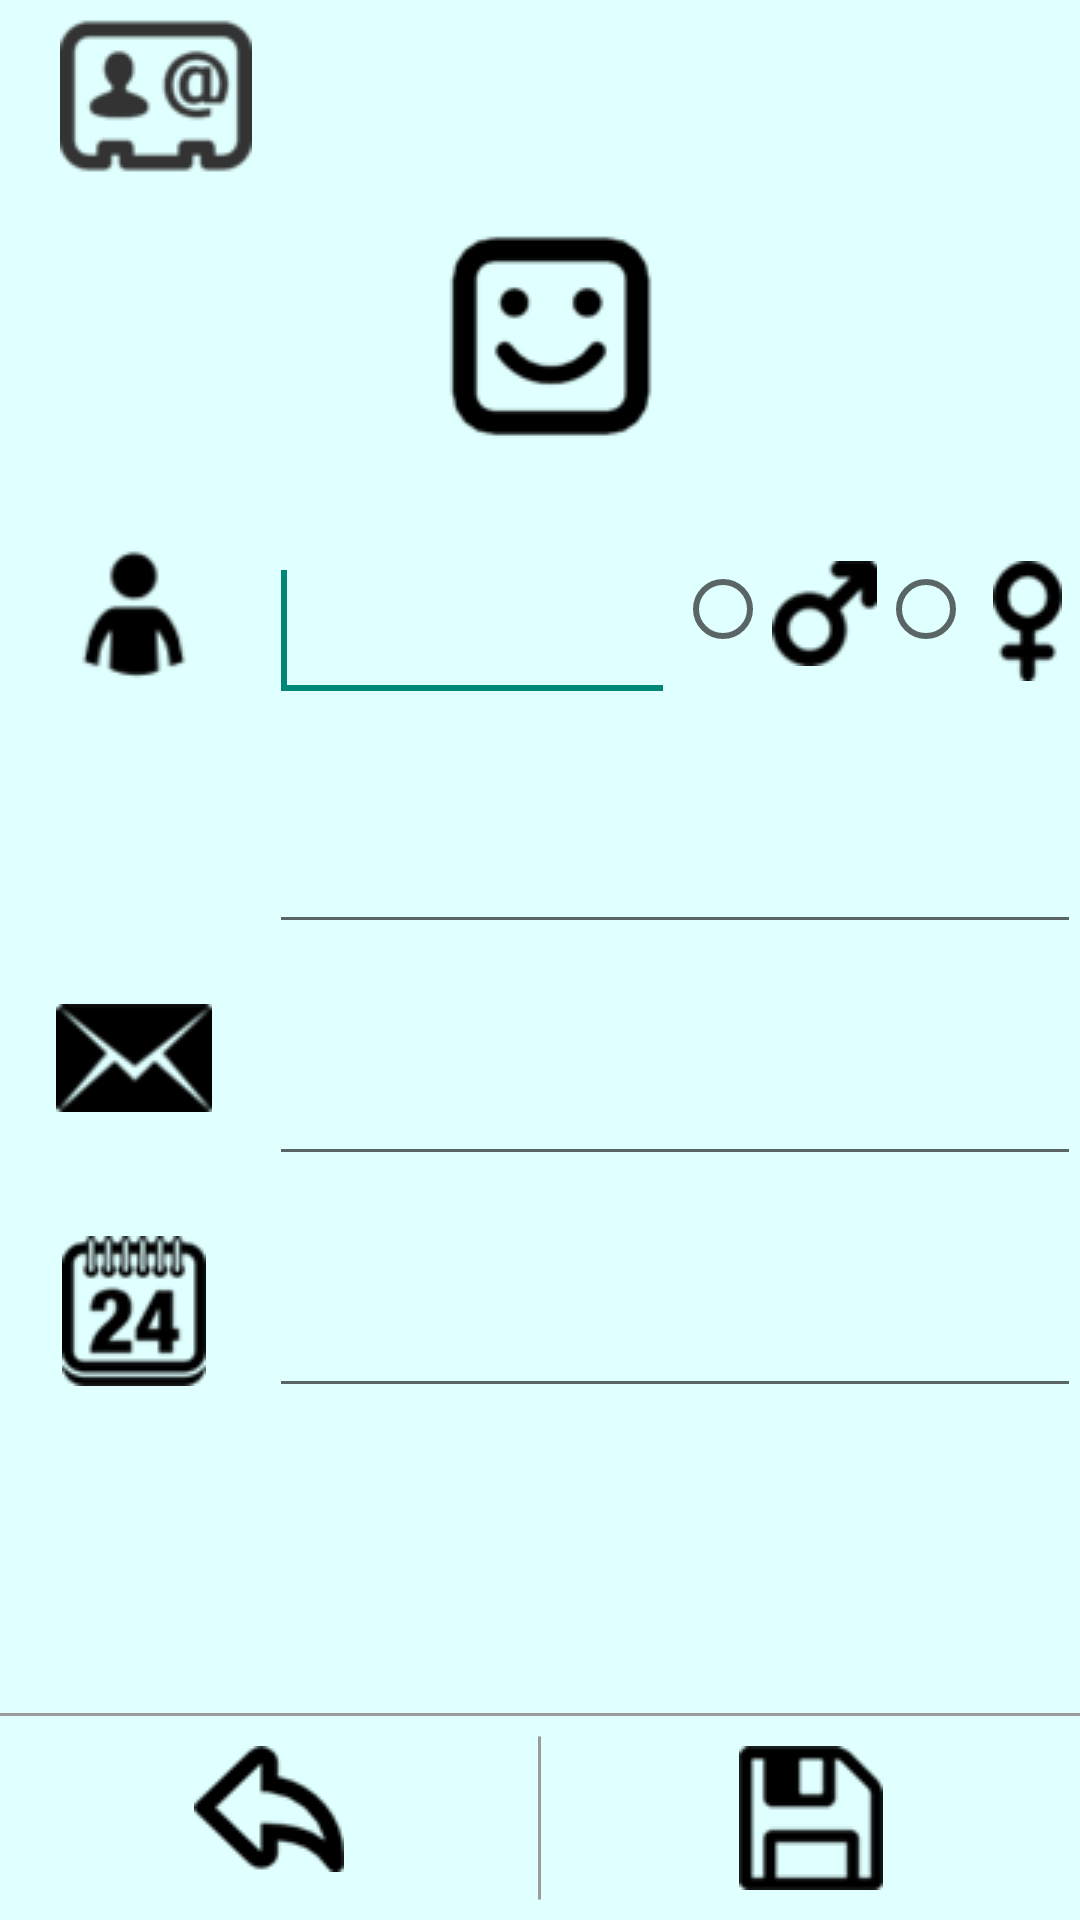

Named icons in this screenshot (1080 × 1920) and their centers, (x=x, y=y):
addressbook: (x=156, y=96)
back: (x=269, y=1809)
calendar: (x=134, y=1311)
female: (x=1027, y=621)
mail: (x=134, y=1058)
male: (x=824, y=613)
update: (x=811, y=1818)
